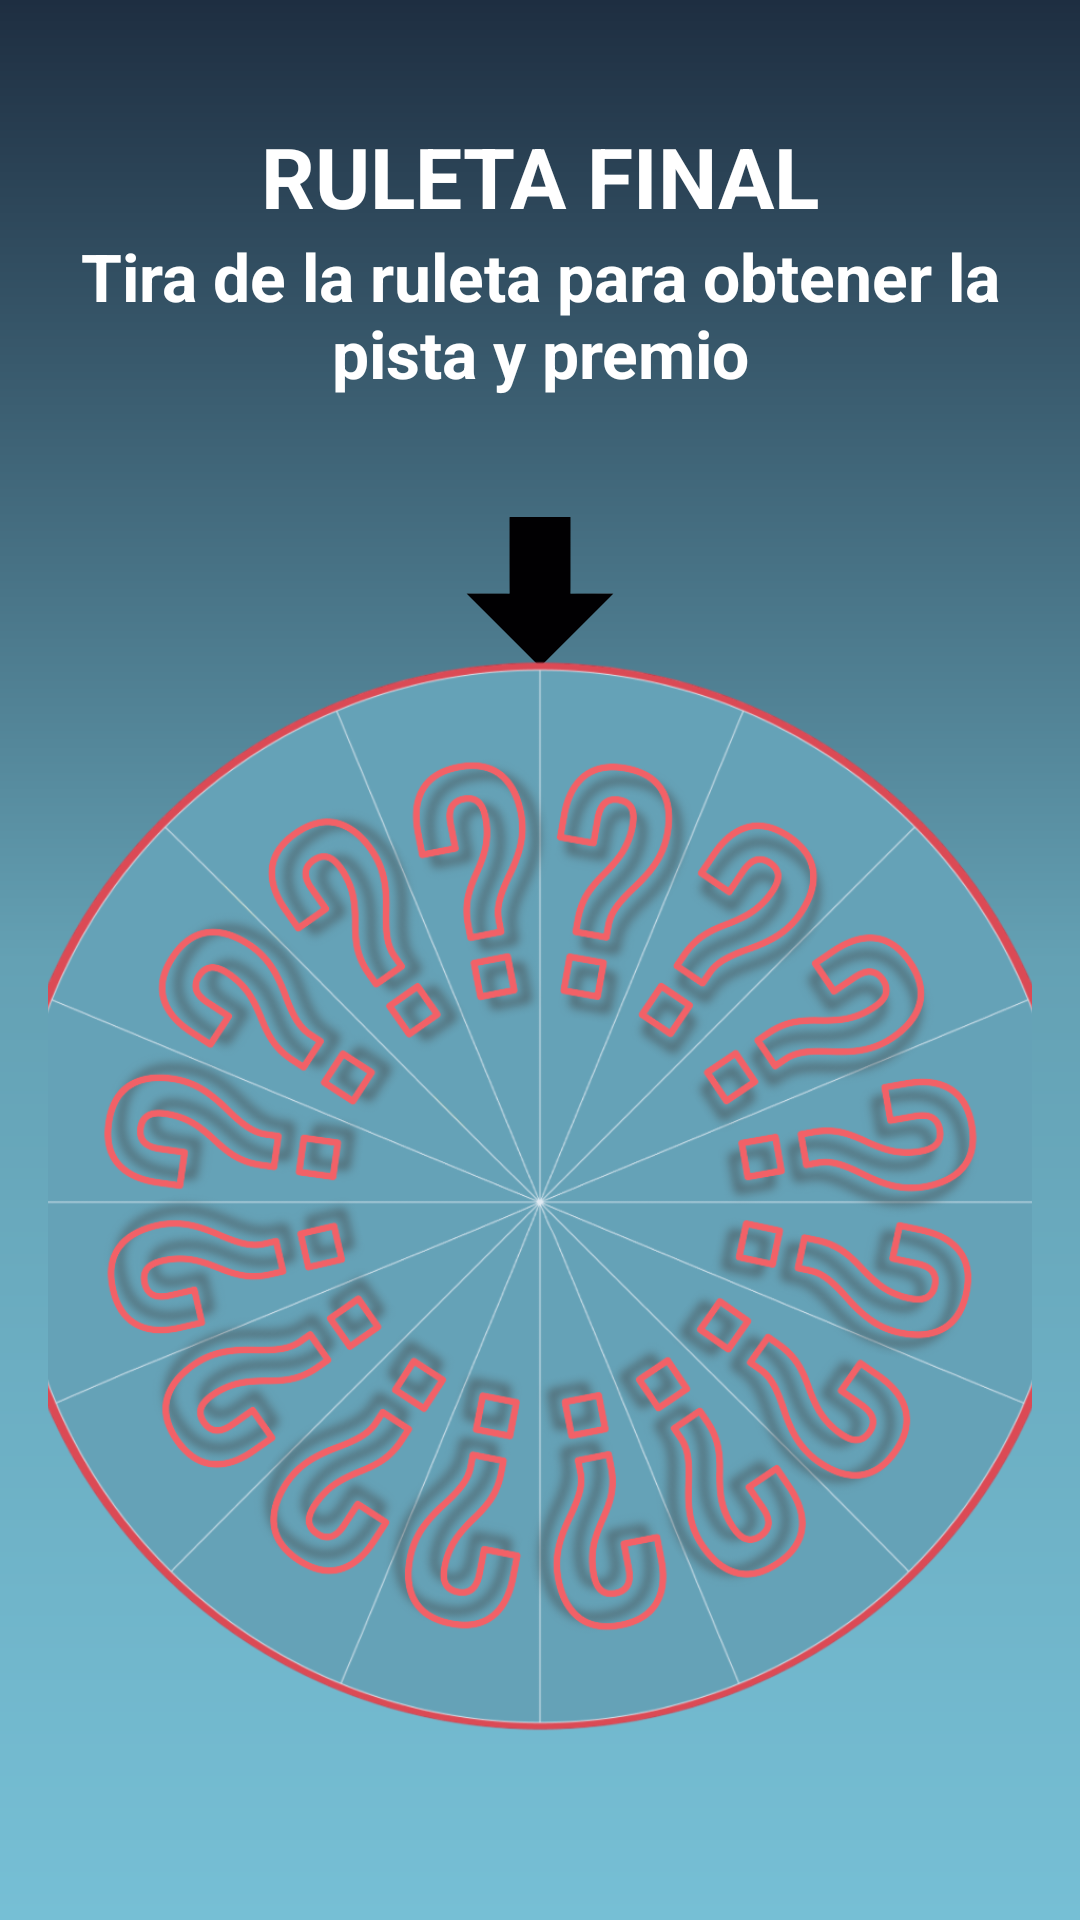

Screen size 1080px×1920px. Icon name, then its center in pixels as (x,y):
flecha: (540,592)
